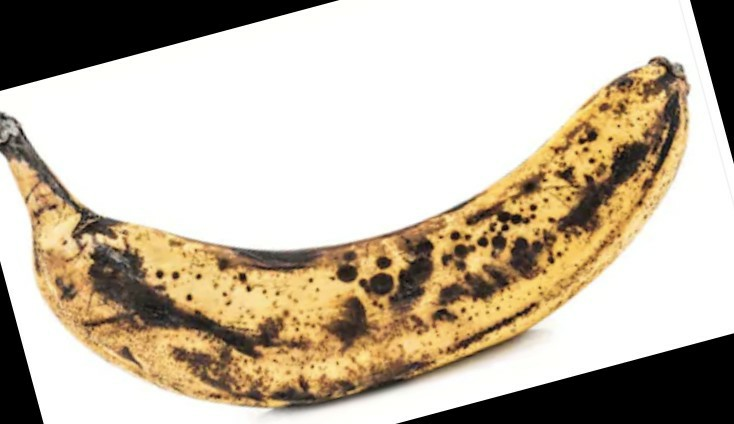rotten_banana: (11, 65, 712, 401)
